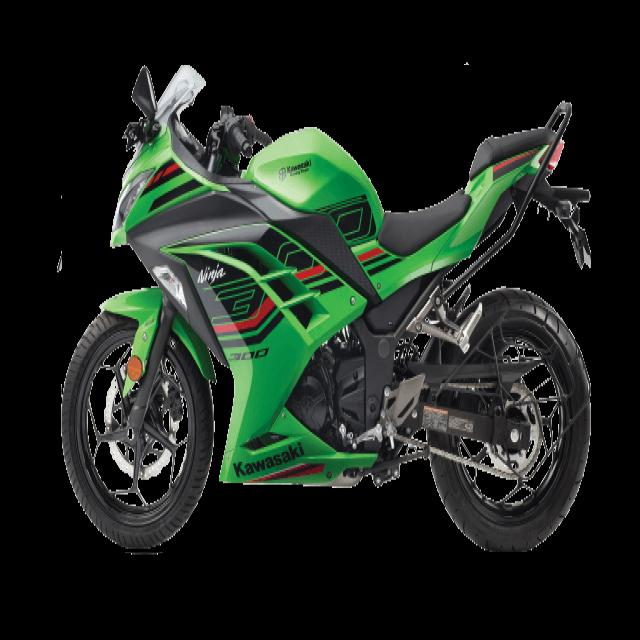motorcycle: (62, 65, 590, 552)
